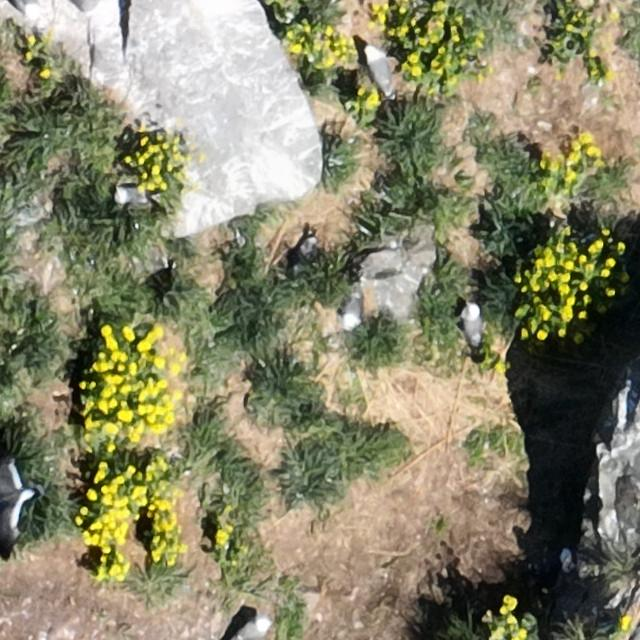F: (0, 463, 37, 544)
umineko: (364, 44, 396, 99), (340, 295, 364, 335), (463, 304, 482, 344), (236, 617, 268, 640), (116, 187, 149, 206)
